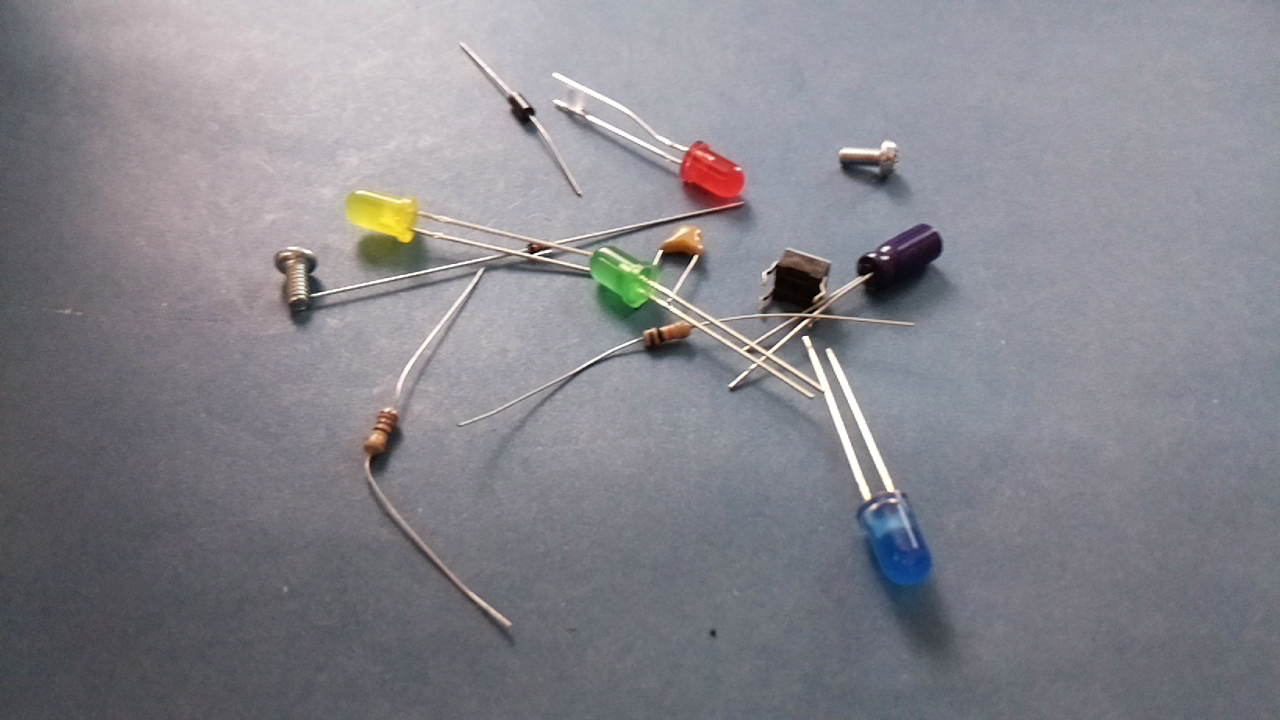button: (769, 247, 835, 315)
capacitor: (855, 222, 944, 298), (656, 222, 707, 259)
diode: (503, 89, 539, 126), (523, 234, 555, 260)
led: (855, 490, 939, 595), (587, 244, 662, 313), (343, 186, 421, 248), (679, 138, 748, 206)
resistor: (359, 406, 401, 461), (638, 317, 695, 348)
